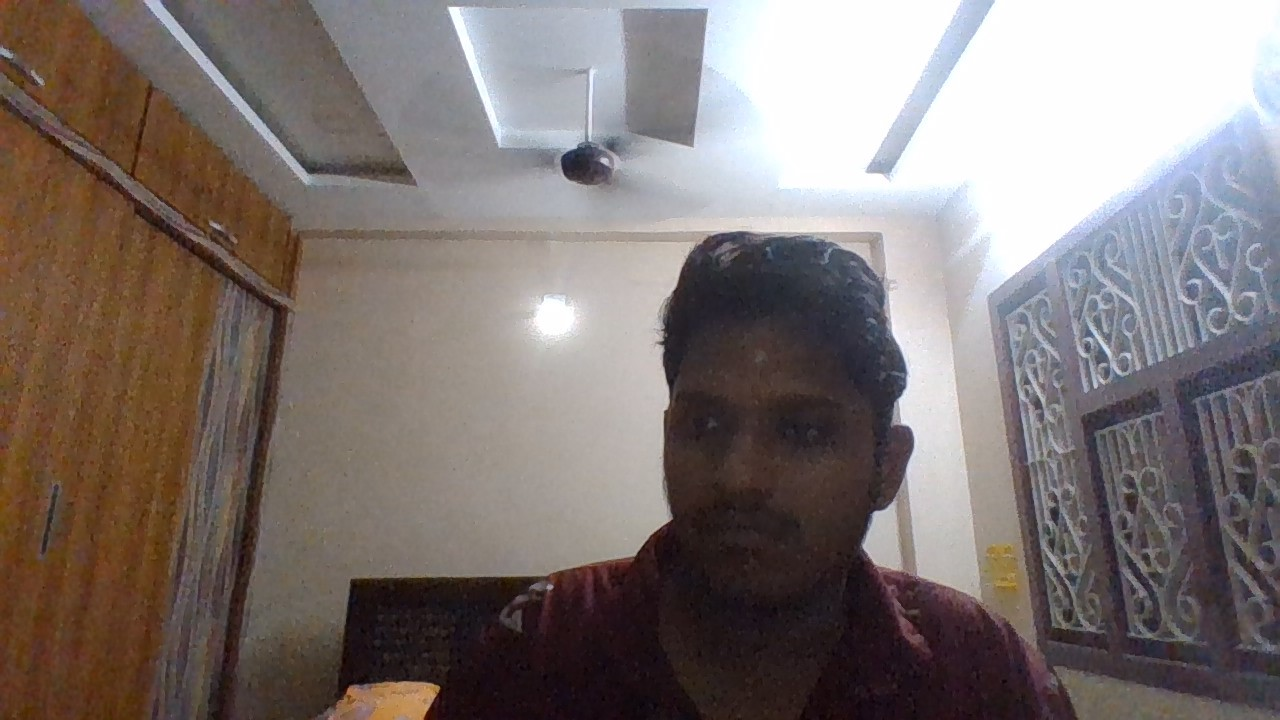person: (374, 70, 1088, 715)
